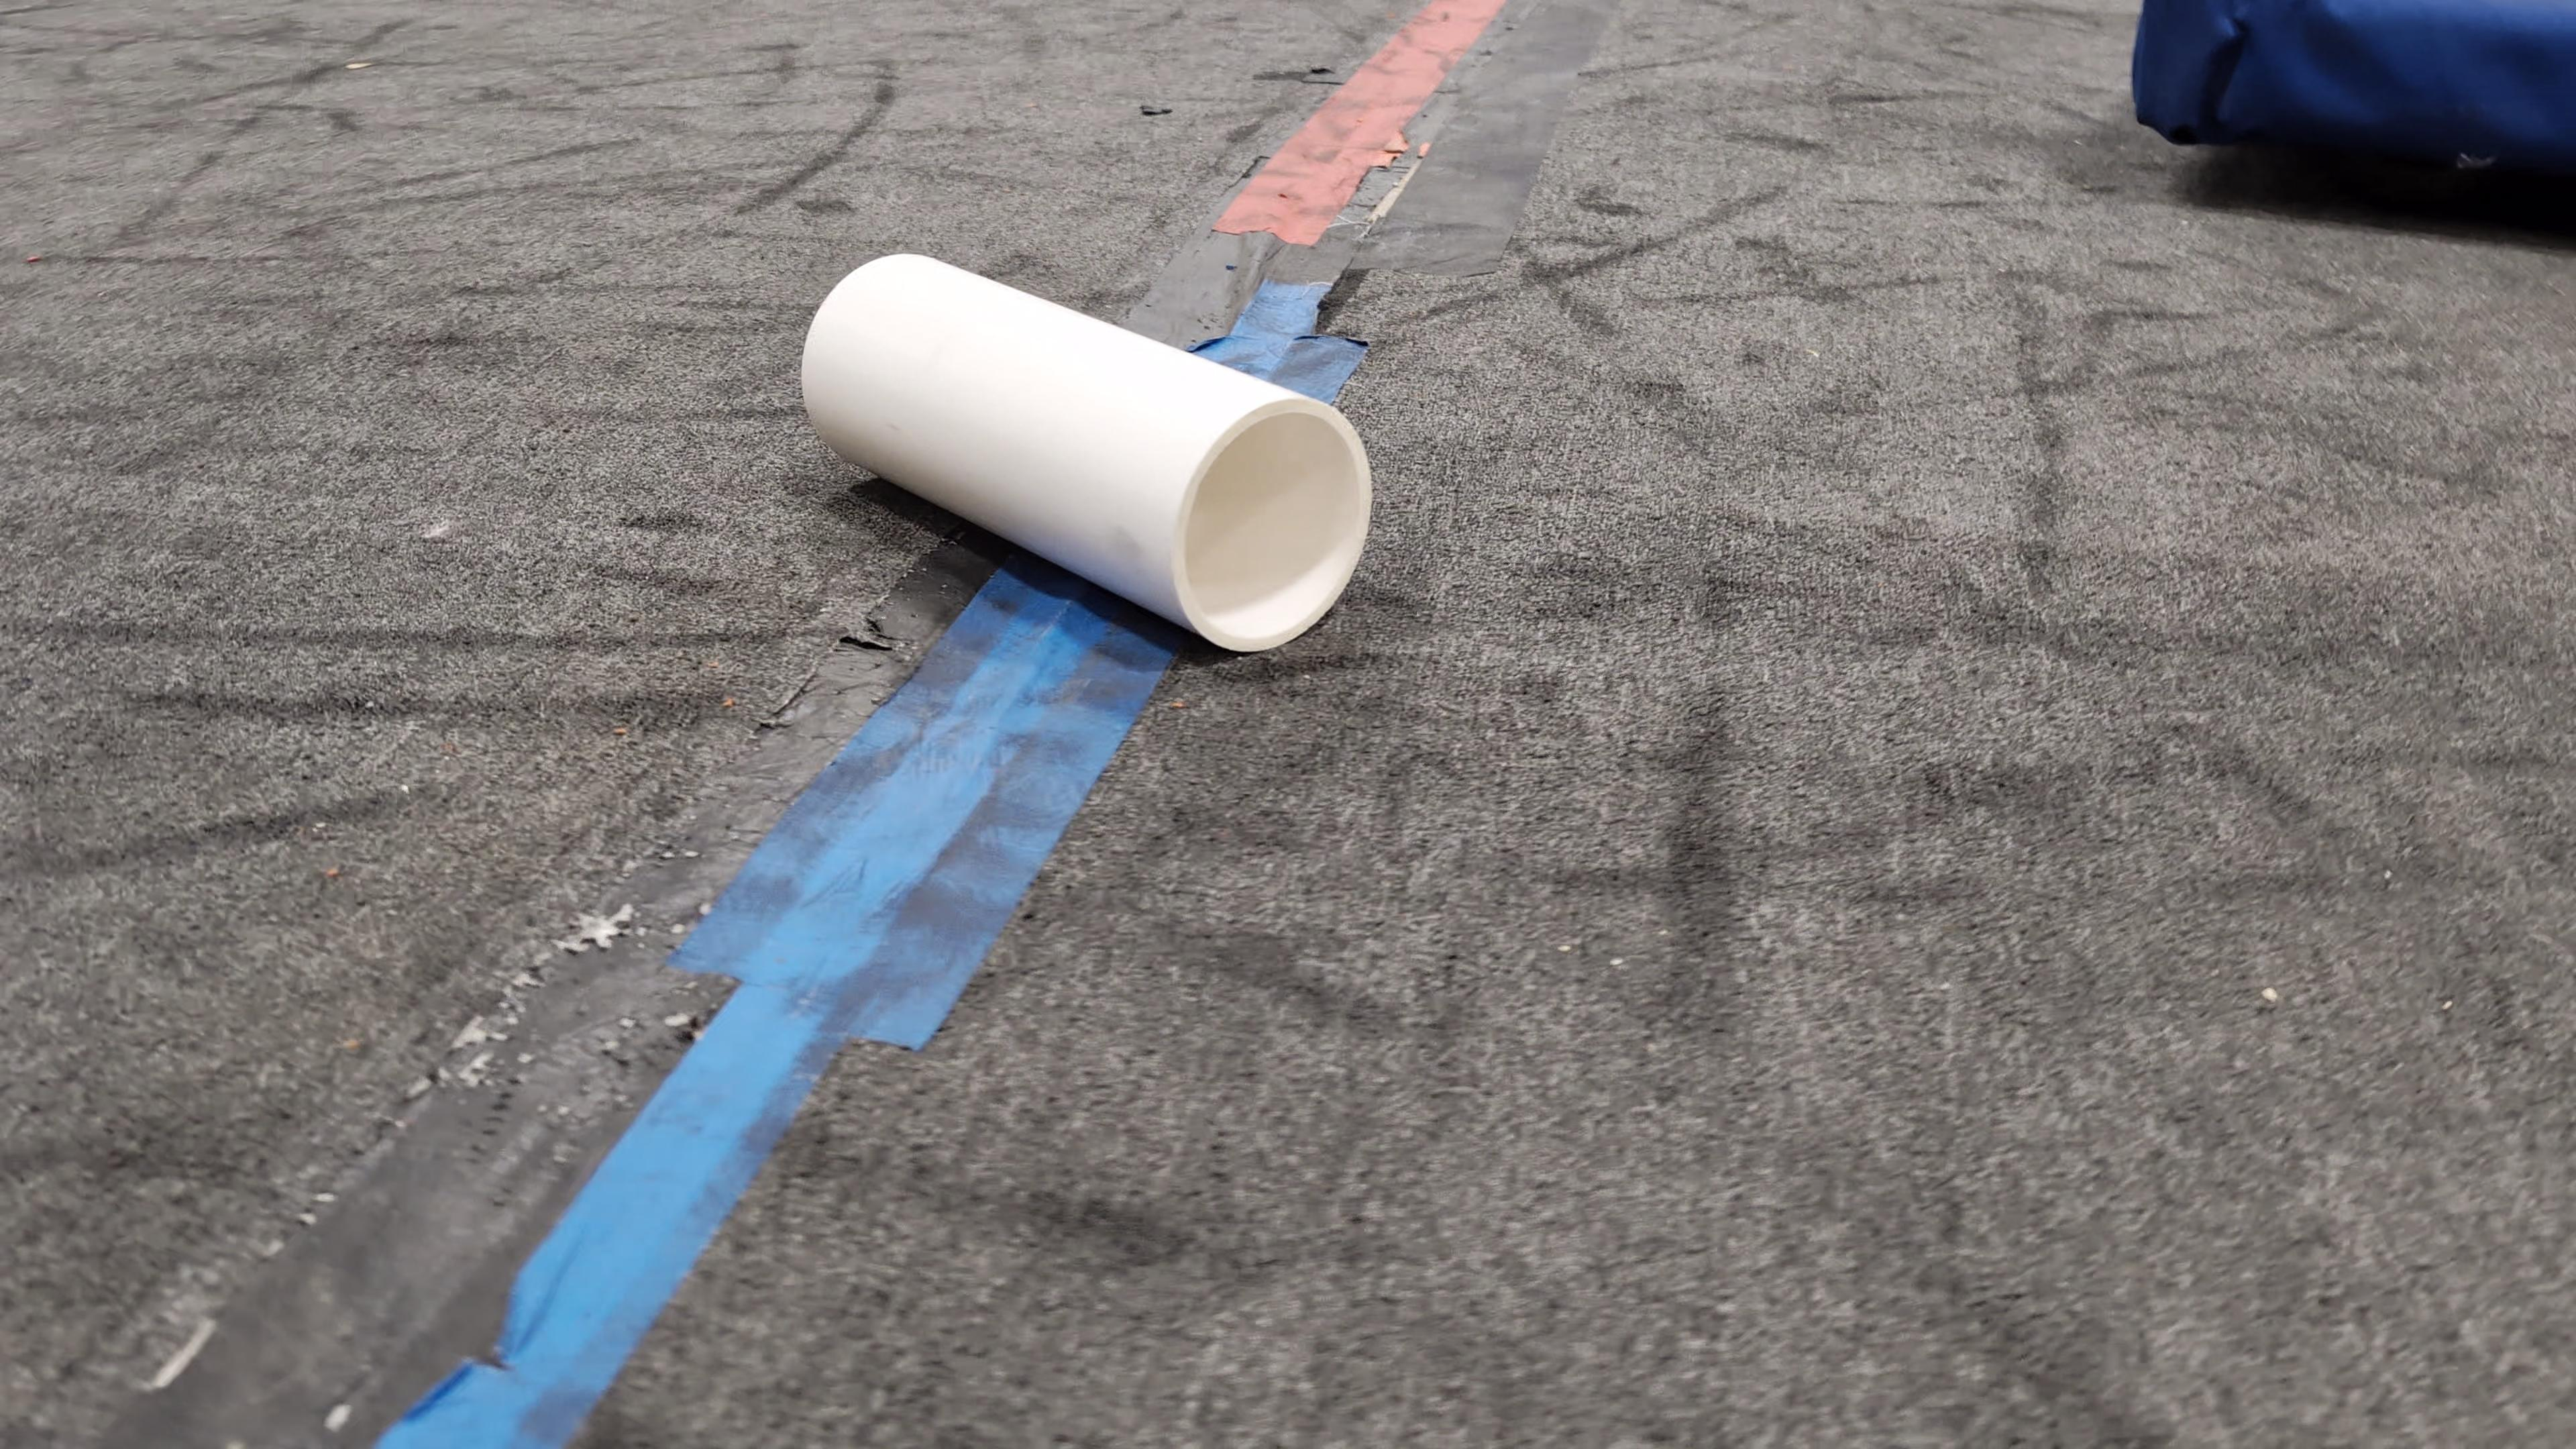coral: (798, 246, 1376, 653)
